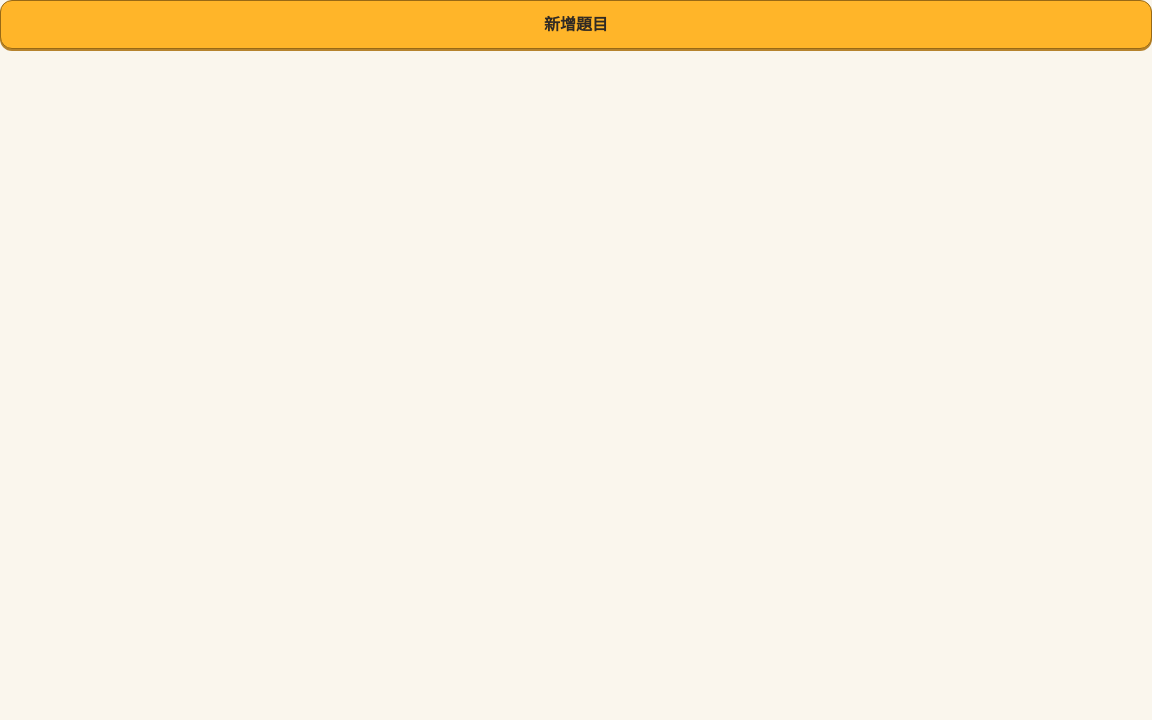
Test: 新增題目不需題號，驗證失敗保留輸入，成功才清空
The width and height of the screenshot is (1152, 720).
Later steps or results of the test are not shown.
What coordinates should you click on to do the following:
click the button "新增題目"
I would click on:
 (576, 24)
Its box is [0,0,1151,49].
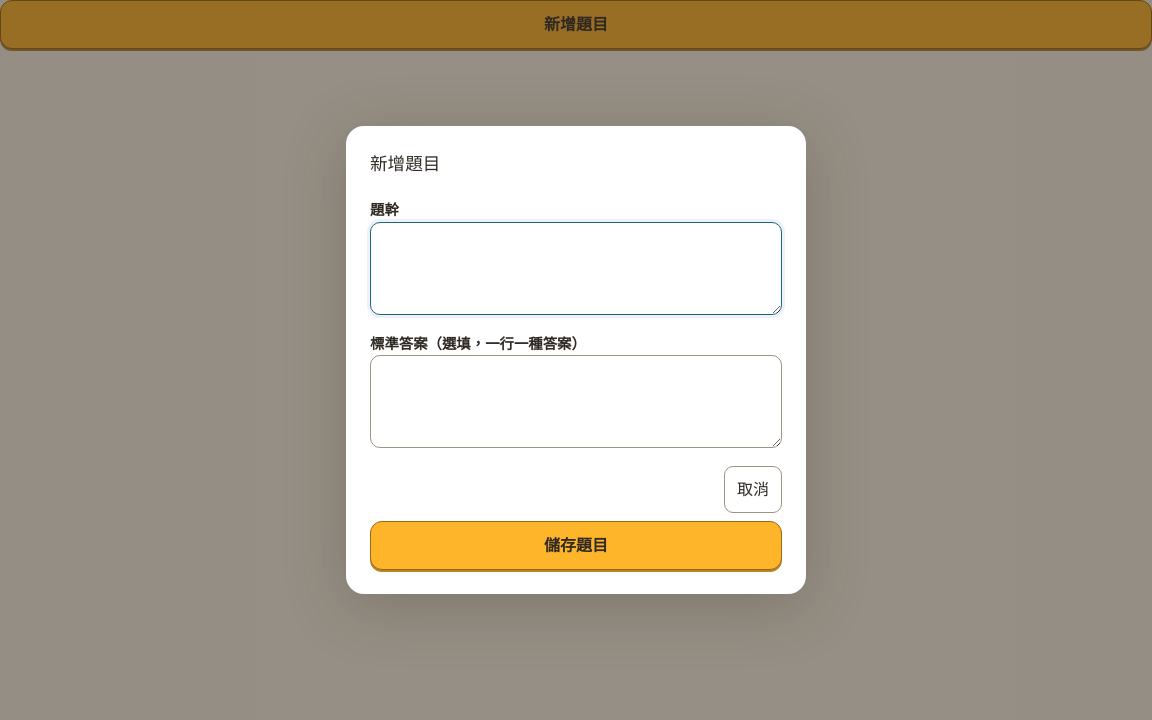
What coordinates should you click on to do the following:
click the button "儲存題目"
I would click on:
 (576, 546)
Its box is [370,521,782,570].
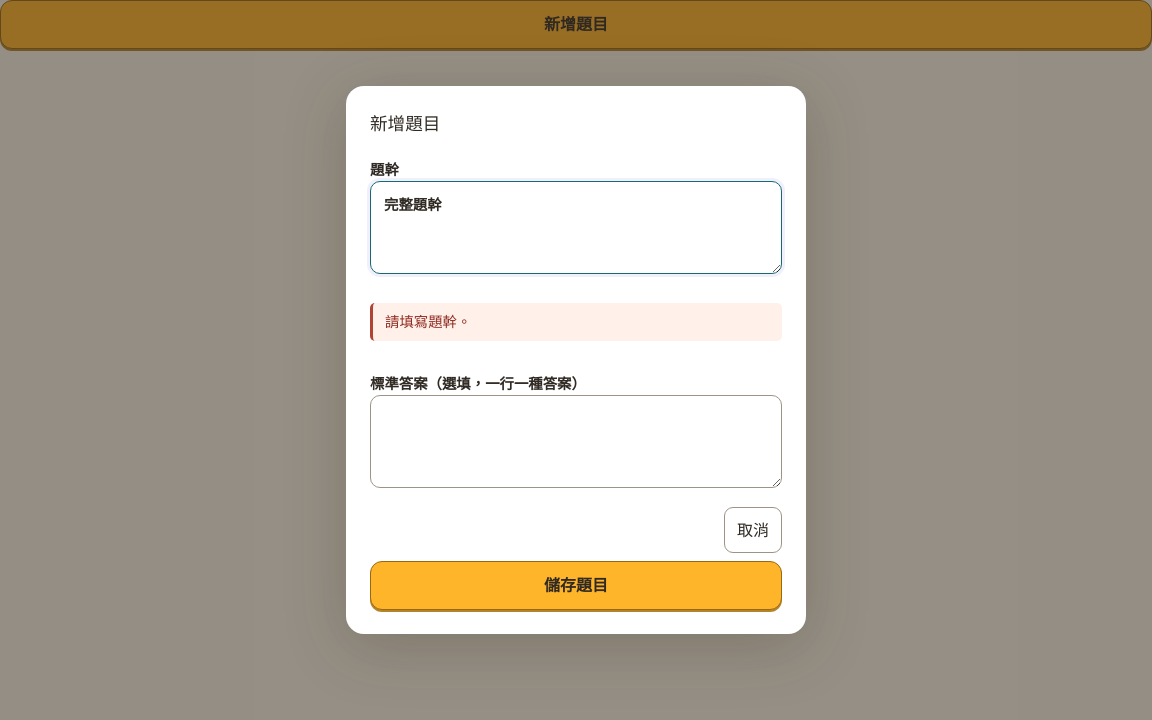
expect the dialog shows "請填寫題幹": met, box [385,312,471,331]
